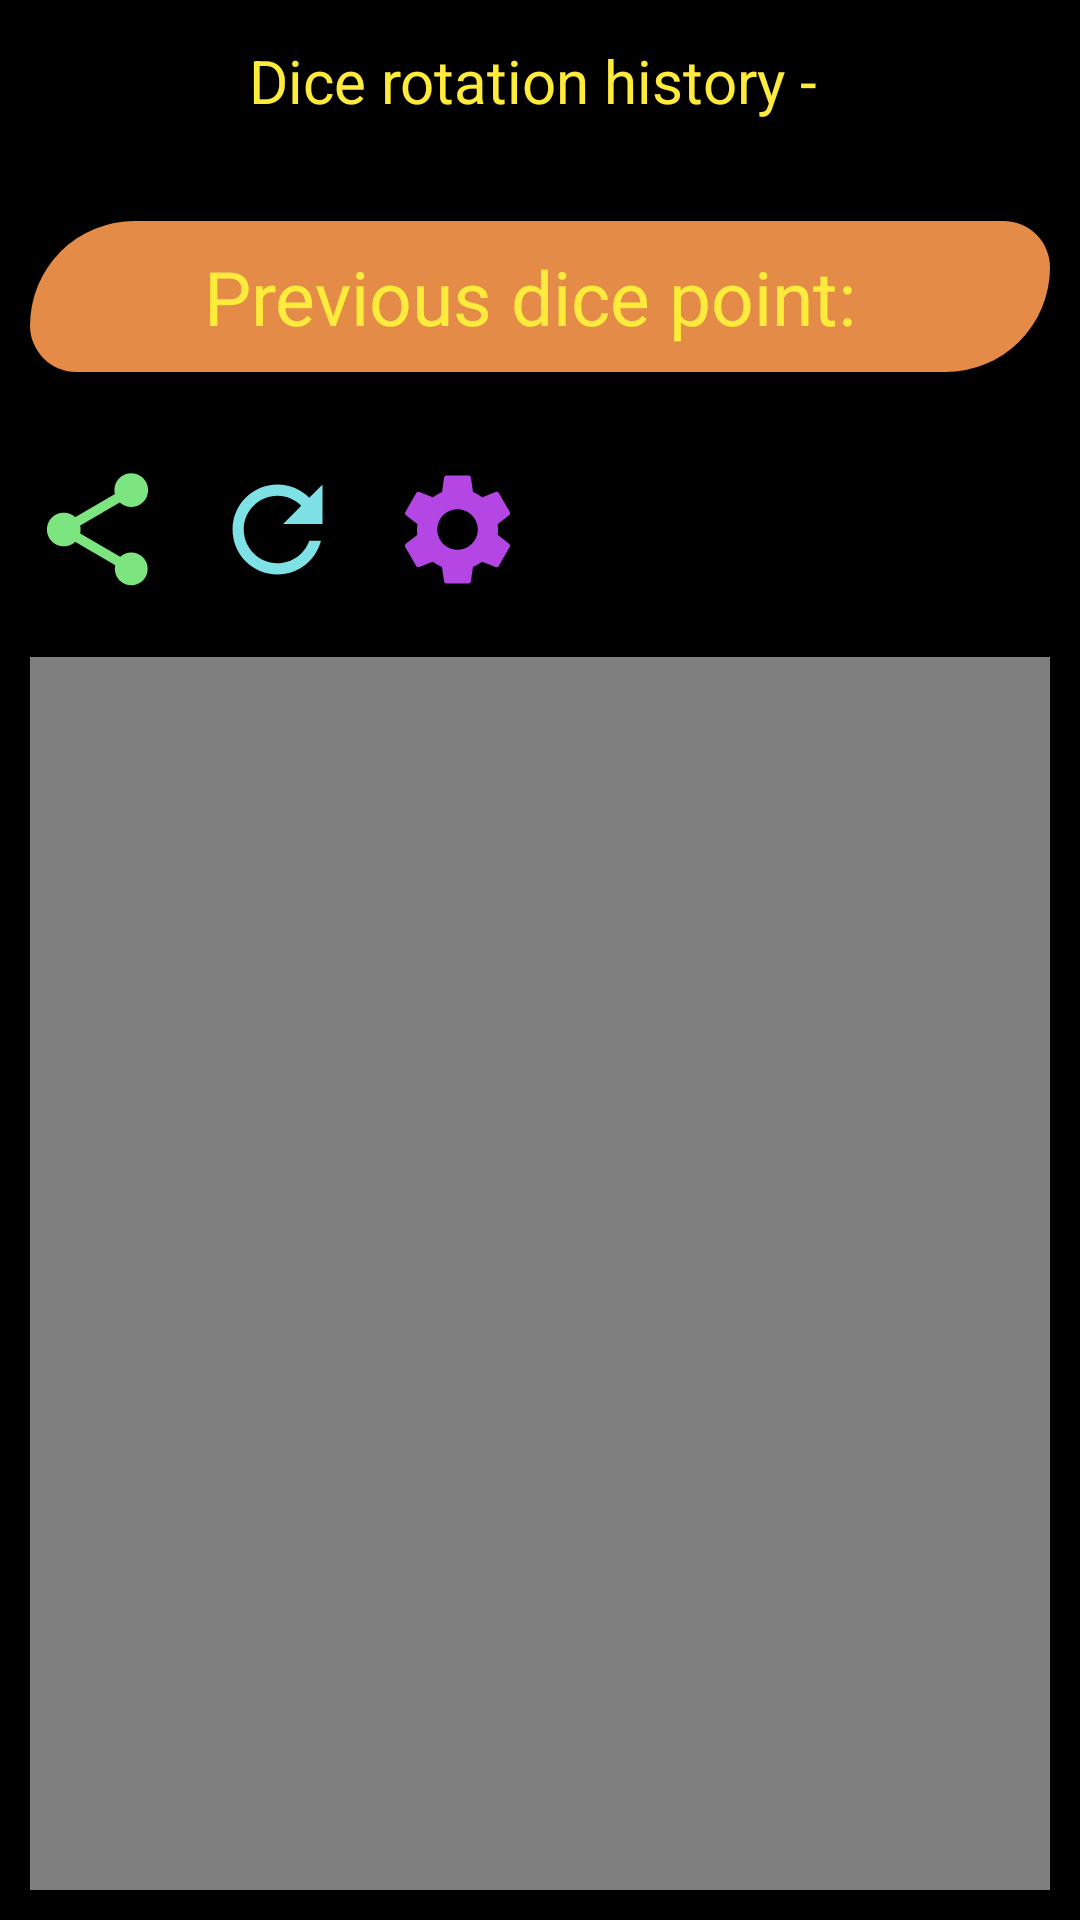

Screen size 1080 x 1920. Icon name, then its center in pixels as [x,y]:
refresh: [277,529]
settings: [457,529]
share: [97,529]
